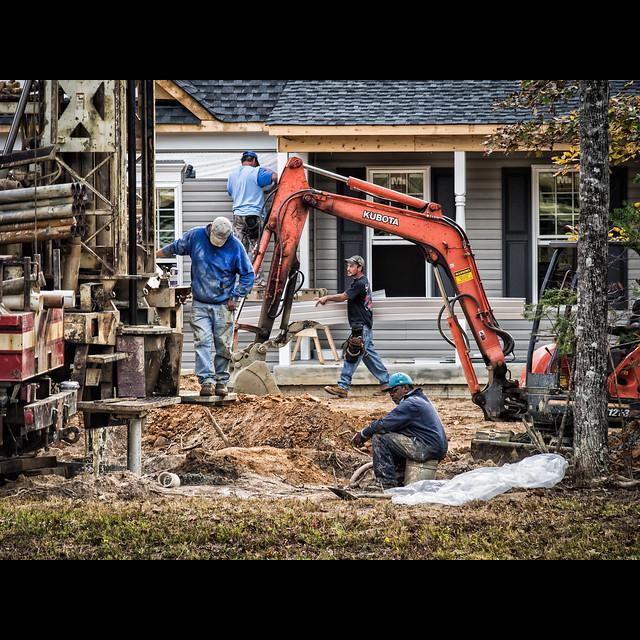Excavator: (231, 155, 639, 469)
NO-Hardhat: (210, 217, 233, 245), (382, 371, 415, 386), (344, 255, 367, 266), (243, 149, 258, 159)
NO-Mask: (347, 269, 359, 276), (392, 397, 401, 405)
NO-Safety Vest: (191, 227, 233, 300), (401, 397, 440, 442), (233, 164, 261, 214), (349, 279, 373, 323)
Person: (154, 216, 256, 394), (347, 371, 447, 492), (313, 254, 391, 398), (226, 149, 277, 285)
dump truck: (1, 259, 83, 459)
